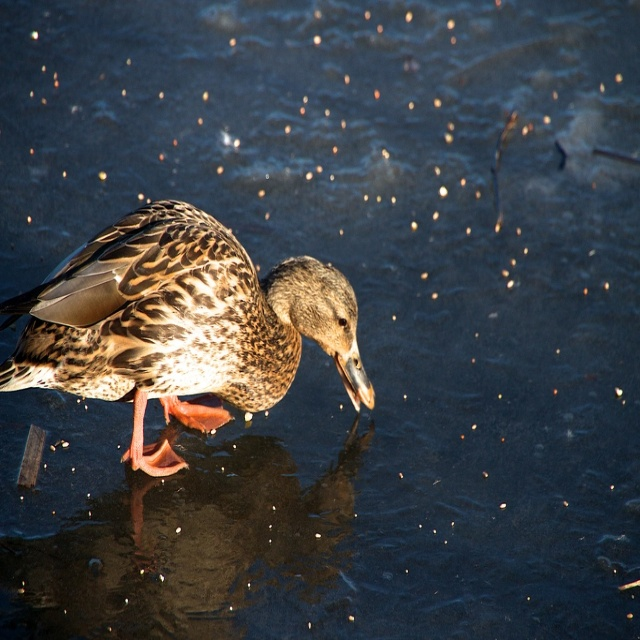Duck: (0, 191, 374, 469)
